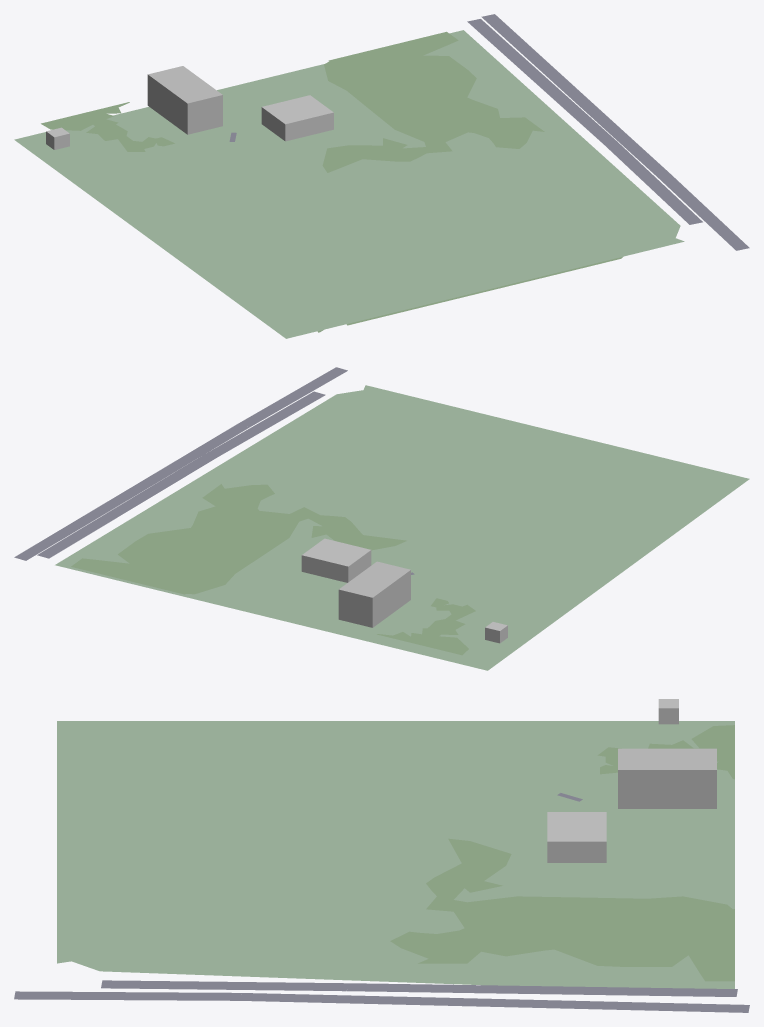
Rendered from 123_119_mid.glb.
The picture shows the model from 3 angles, top to bottom: view 1: azimuth 30°, elevation 25°; view 2: azimuth 150°, elevation 25°; view 3: azimuth 270°, elevation 25°; orthographic projection. The views are drawn at different scales.
Size of the model in its own units: 516 by 45.8 by 543.
